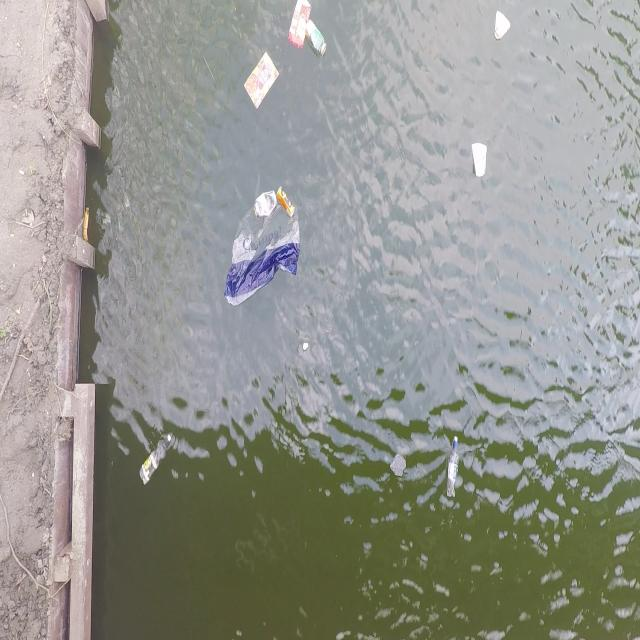Bouteille plastique: (140, 429, 172, 489), (448, 434, 460, 512)
Non plastique: (276, 180, 298, 222), (470, 142, 491, 186), (253, 190, 279, 216), (494, 11, 512, 47)
Sac plastique: (218, 222, 302, 307)
